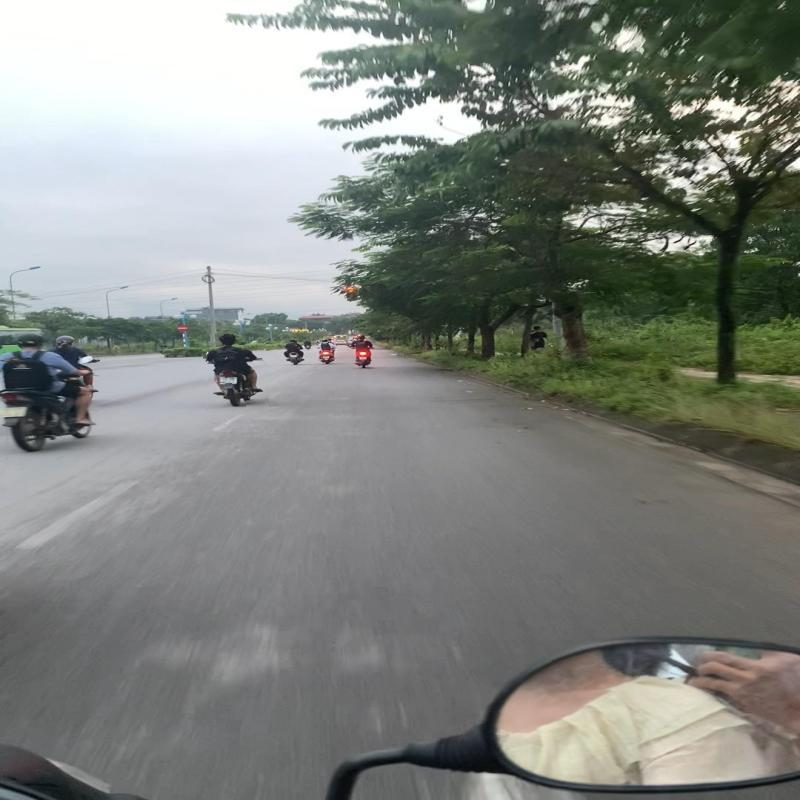licenseplate: (216, 376, 240, 385)
motorcyclist: (203, 331, 269, 410)
nohelmet: (217, 332, 238, 346)
